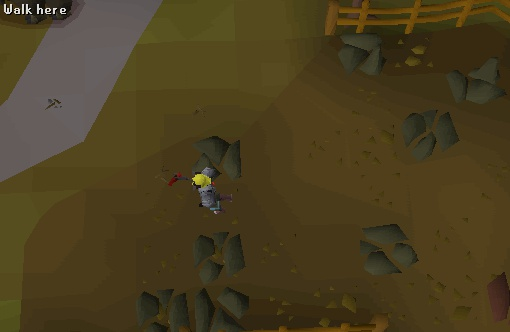coal: (185, 124, 263, 195), (346, 211, 424, 282), (390, 98, 468, 169), (326, 17, 404, 88)
